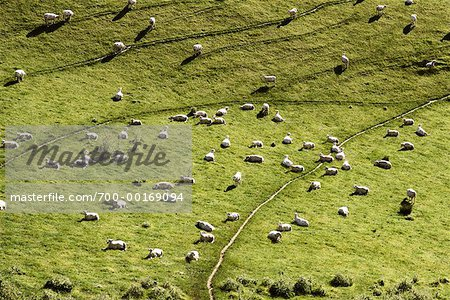sheep: (236, 98, 266, 114), (77, 210, 106, 226), (262, 227, 286, 245), (240, 150, 266, 166), (102, 237, 126, 254), (285, 5, 307, 23), (112, 42, 136, 58), (169, 111, 191, 127), (273, 218, 296, 233), (340, 51, 357, 70), (201, 147, 222, 162), (127, 118, 153, 130), (292, 211, 309, 229), (10, 68, 33, 81), (401, 185, 417, 203), (335, 206, 355, 220), (146, 246, 166, 260), (316, 152, 339, 164), (351, 183, 372, 196), (62, 9, 81, 23), (376, 158, 396, 171), (198, 230, 217, 243), (339, 160, 354, 175), (222, 210, 239, 223), (260, 74, 282, 84), (283, 131, 296, 147), (421, 58, 437, 71), (257, 104, 274, 116), (43, 11, 60, 23), (398, 141, 418, 151), (231, 169, 244, 184), (191, 41, 204, 56), (183, 248, 199, 259), (249, 141, 266, 151), (271, 111, 284, 124), (414, 125, 426, 139), (110, 89, 125, 100), (197, 221, 213, 231), (410, 9, 420, 25), (325, 166, 339, 177), (283, 153, 294, 167), (327, 134, 344, 143), (299, 141, 314, 151), (147, 16, 157, 31), (401, 117, 417, 126), (217, 134, 229, 146), (382, 129, 402, 136), (202, 117, 213, 128), (313, 183, 326, 191), (216, 108, 229, 116), (333, 152, 343, 160), (377, 5, 387, 13), (189, 107, 198, 114), (333, 145, 343, 151), (214, 119, 223, 124)
